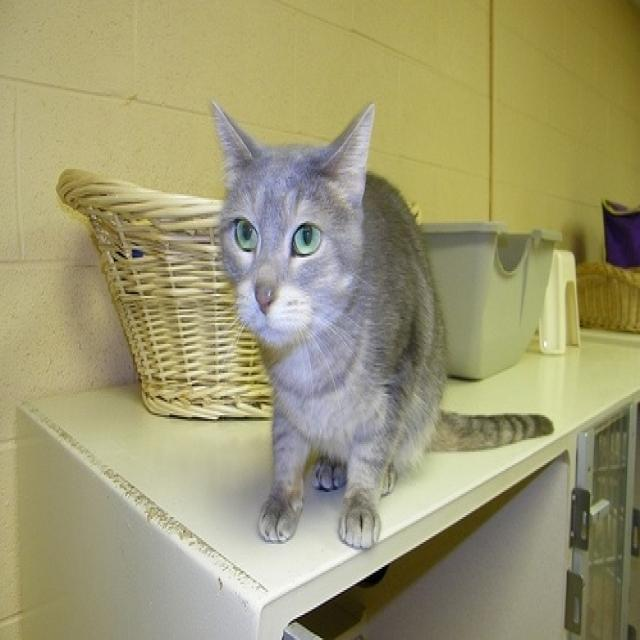cat: (209, 96, 554, 550)
